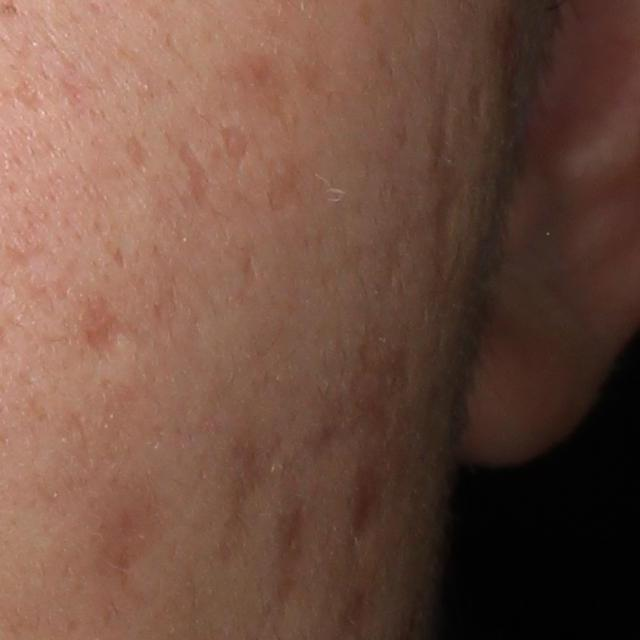atrophic_scar: (213, 441, 281, 565), (92, 466, 164, 578), (71, 284, 137, 372), (275, 494, 314, 603), (431, 188, 465, 280), (344, 462, 382, 543), (175, 141, 212, 206), (216, 119, 247, 165), (12, 72, 45, 115), (122, 137, 154, 169)
